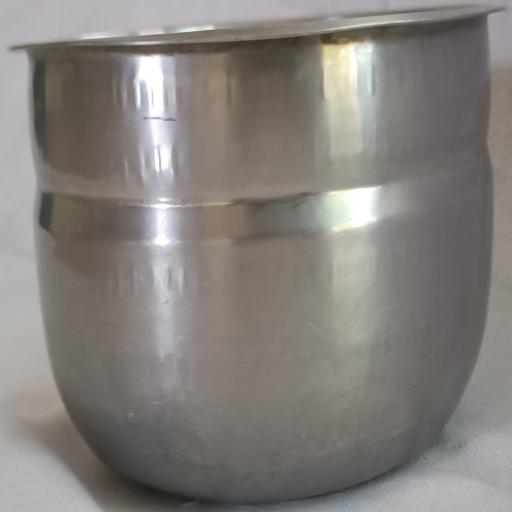vessel: (16, 6, 502, 502)
